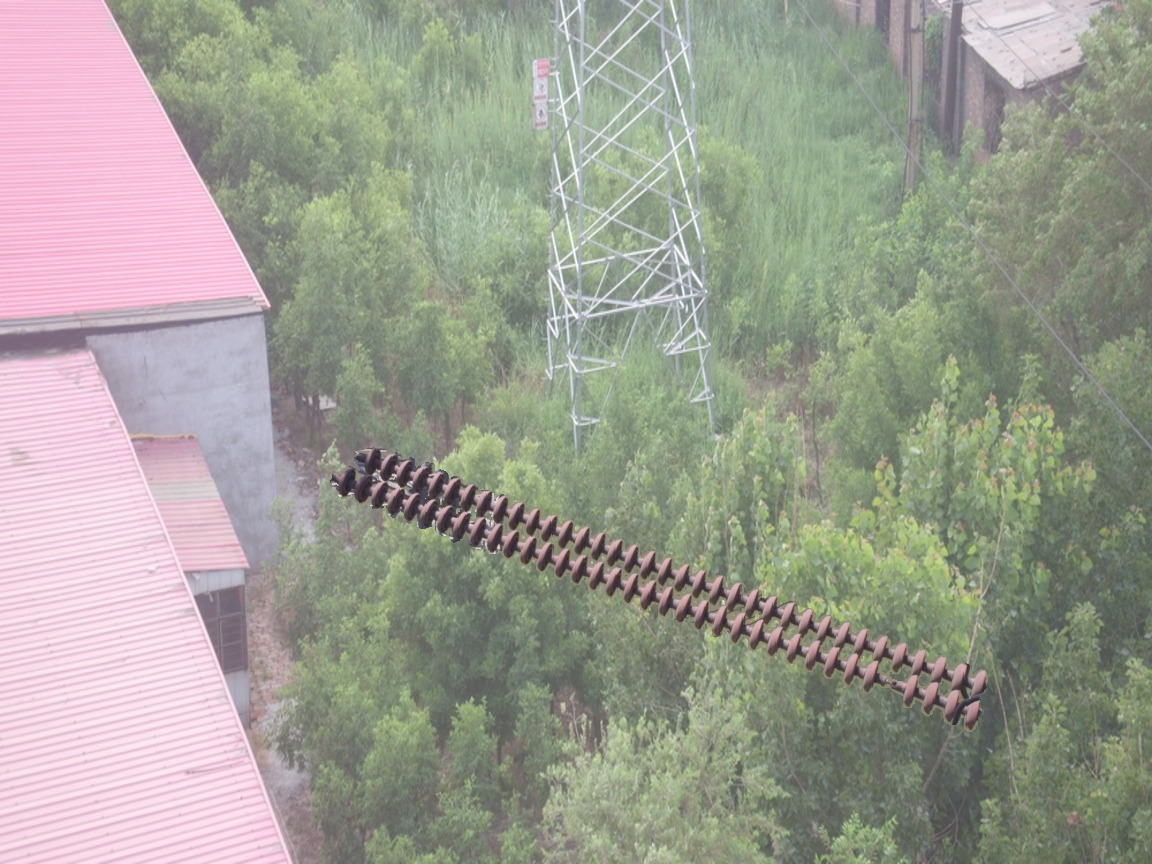defect: (856, 658, 924, 710)
